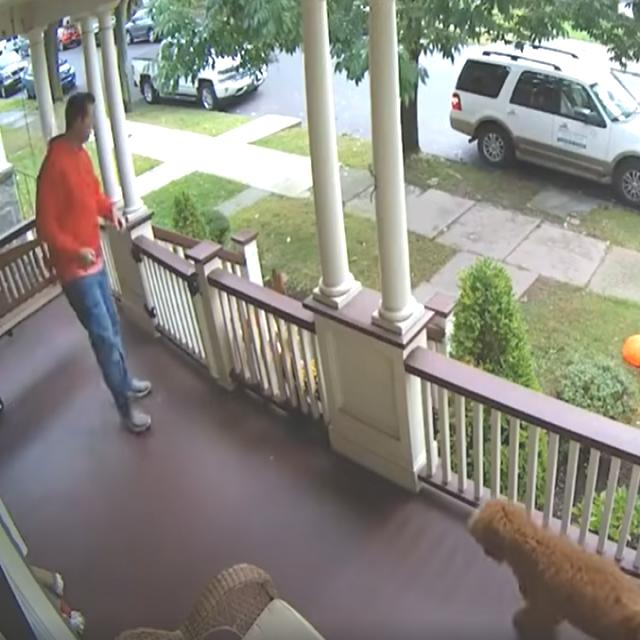Car: (426, 30, 640, 203), (132, 22, 257, 121)
